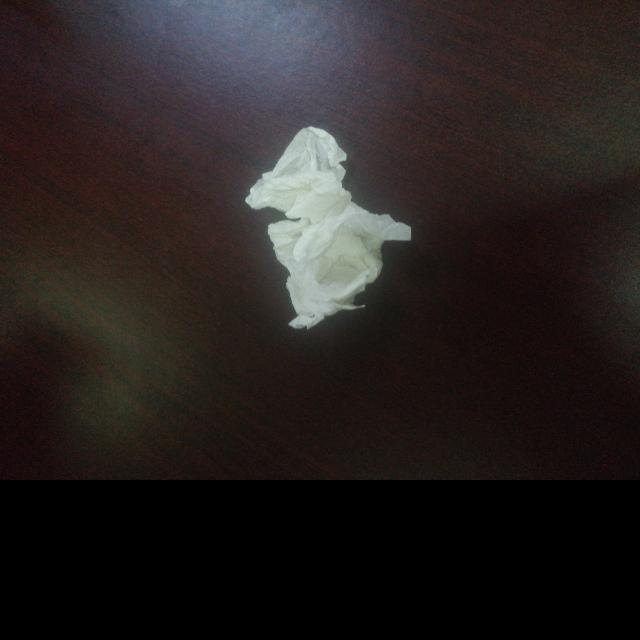kitchen paper: (240, 120, 422, 339)
